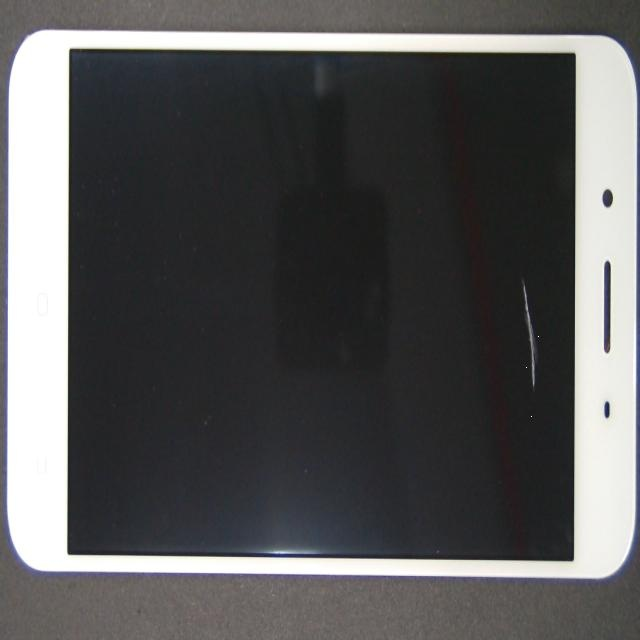scratch: (250, 88, 640, 512)
